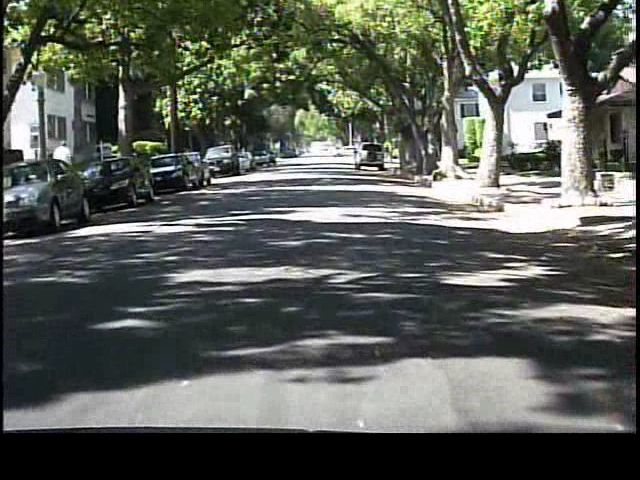person: (52, 139, 79, 201)
